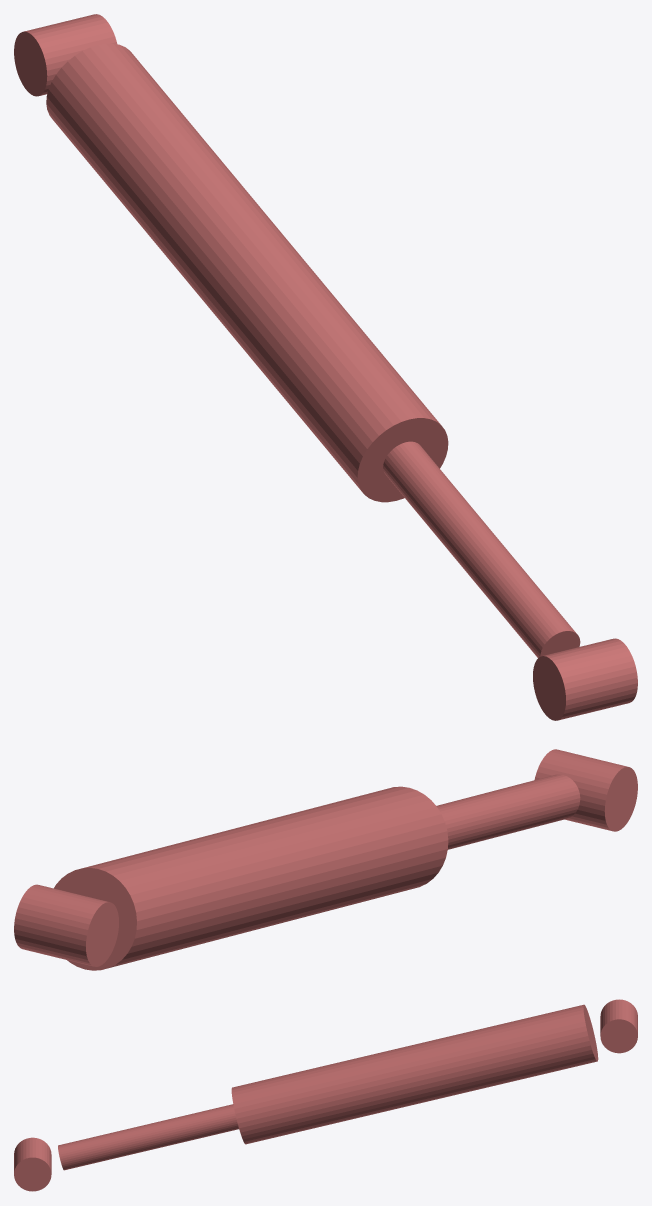
The model's file is LG-DAMP.glb.
The picture shows the model from 3 angles, top to bottom: view 1: azimuth 30°, elevation 25°; view 2: azimuth 150°, elevation 25°; view 3: azimuth 270°, elevation 25°; orthographic projection. The views are drawn at different scales.
Parts seen in each view (by area): view 1: geometry_0; view 2: geometry_0; view 3: geometry_0.
Part boxes in pixels (x1=…): geometry_0: x1=14, y1=14, x2=637, y2=720; geometry_0: x1=14, y1=749, x2=637, y2=970; geometry_0: x1=14, y1=999, x2=637, y2=1191.
Size of the model in its own units: 50 by 164 by 532.
